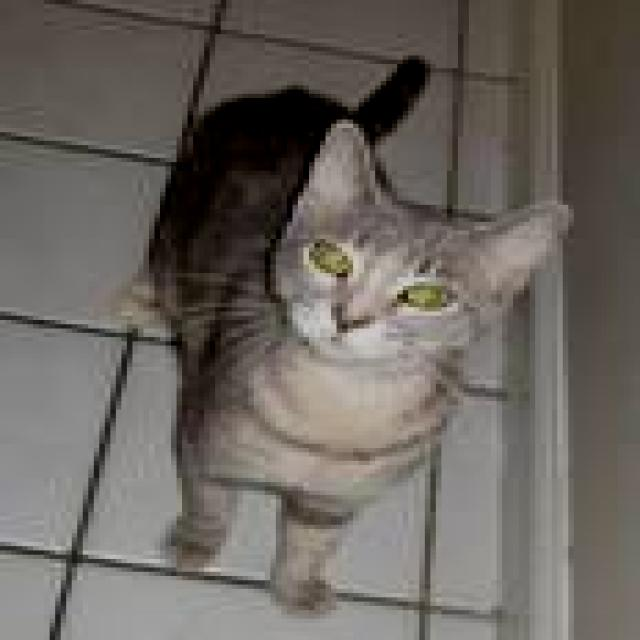Kucing: (99, 54, 598, 582)
